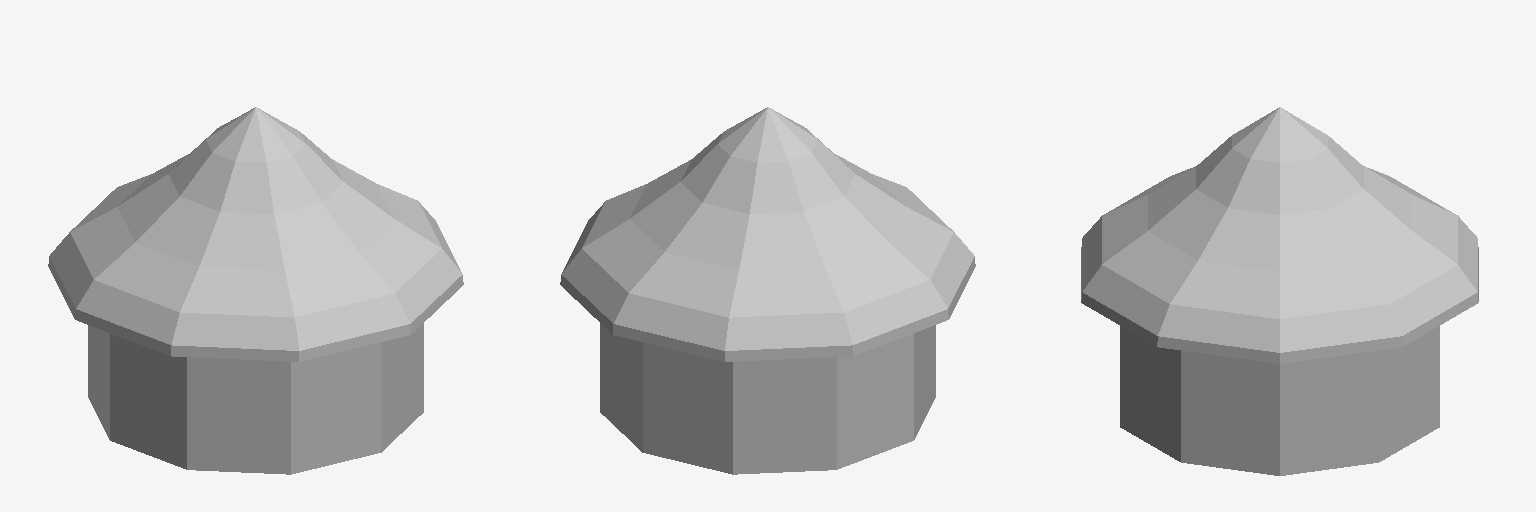
The model's file is Case02.obj.
3 renders of one model, left to right at view 1: azimuth 30°, elevation 25°; view 2: azimuth 150°, elevation 25°; view 3: azimuth 270°, elevation 25°, orthographic.
Parts seen in each view (by area): view 1: Case02; view 2: Case02; view 3: Case02.
Part boxes in pixels (x1,y1,x2,y2): Case02: (48,107,463,474); Case02: (560,107,975,474); Case02: (1081,107,1478,475).
Size of the model in its own units: 9.25 by 7.28 by 8.8.